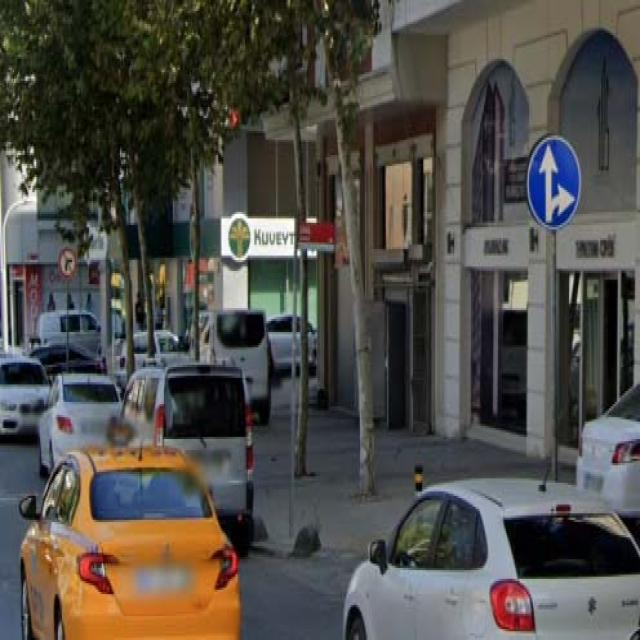ilerisag: (526, 136, 580, 230)
sagadonulmez: (58, 247, 76, 280)
